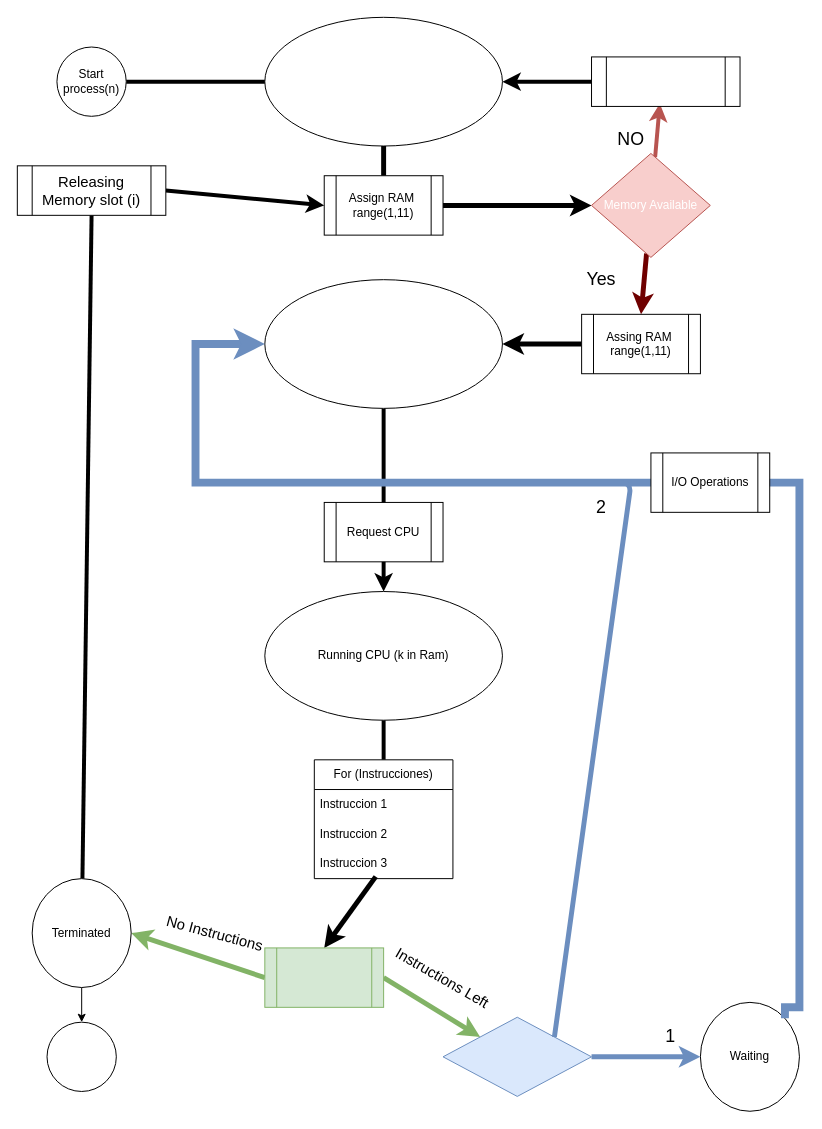
Image size: 822x1129. Some labels were removed from this diagram. The shapes that lost their labels are listed below. From the top down, each one's centre as x and y in pixels, then its label:
At pixel 383 81: "New Process ( j in n ) Exponential Arrival Time".
At pixel 665 81: "Waiting for Memory...".
At pixel 383 343: "Ready".
At pixel 324 977: "Evaluate...".
At pixel 81 1056: "EXIT".
At pixel 517 1056: "Assign rand(1,2)".
